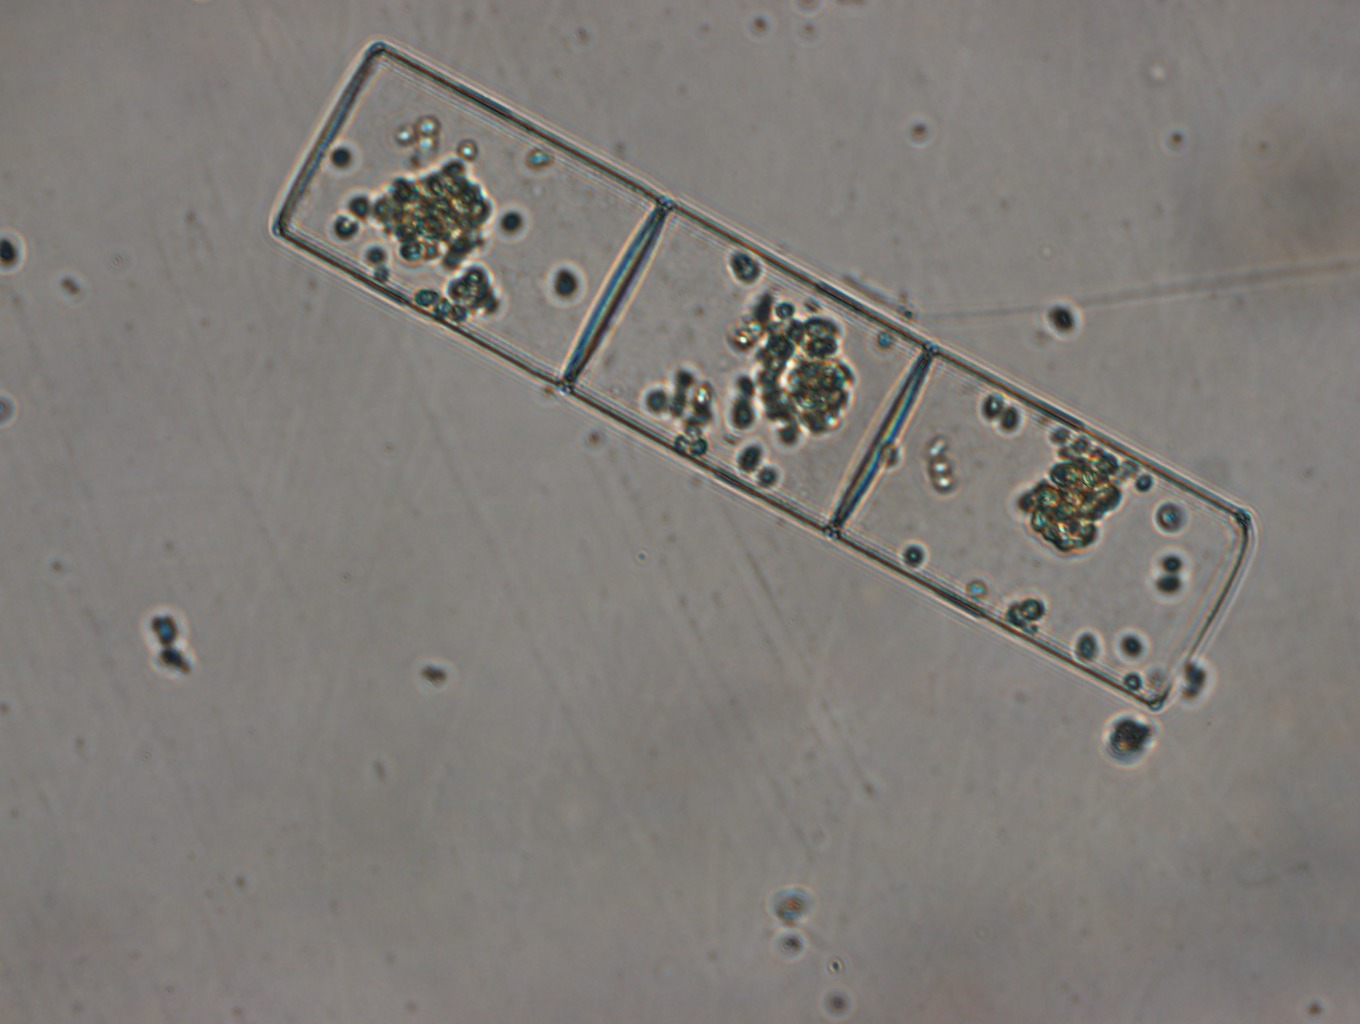guinardia flaccida: (247, 28, 1268, 715)
